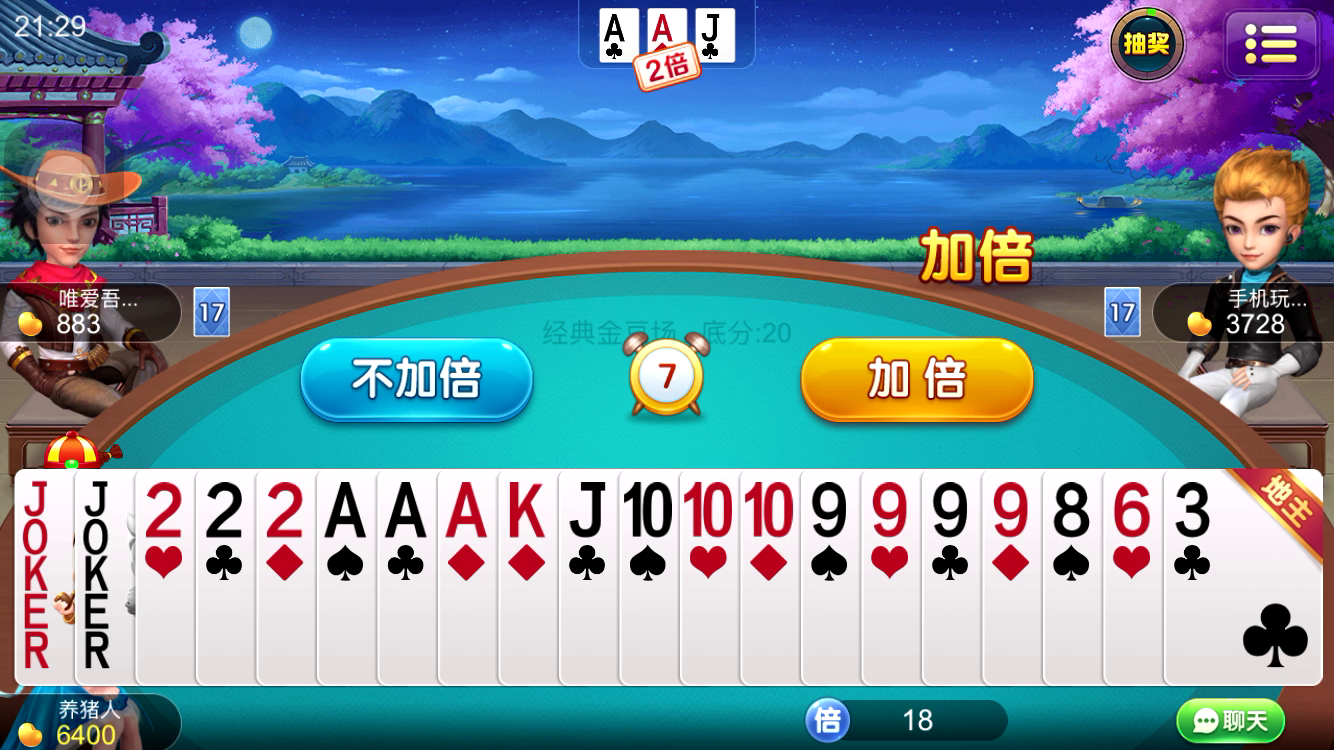A: (317, 476, 372, 544), (380, 474, 433, 543), (439, 477, 493, 543), (599, 7, 635, 46), (646, 10, 682, 49)
J: (562, 476, 611, 545), (696, 4, 726, 44)
JOKER: (14, 473, 62, 599)
K: (501, 474, 553, 543)
eight: (1046, 476, 1099, 545)
joker: (78, 478, 119, 600)
nine: (924, 475, 978, 544), (803, 475, 856, 544), (985, 476, 1038, 544), (863, 476, 915, 542)
six: (1106, 477, 1158, 543)
ten: (620, 474, 676, 544), (680, 474, 736, 542), (743, 475, 797, 543)
three: (1166, 476, 1224, 545)
two: (259, 477, 312, 544), (199, 476, 251, 544), (139, 478, 190, 543)
